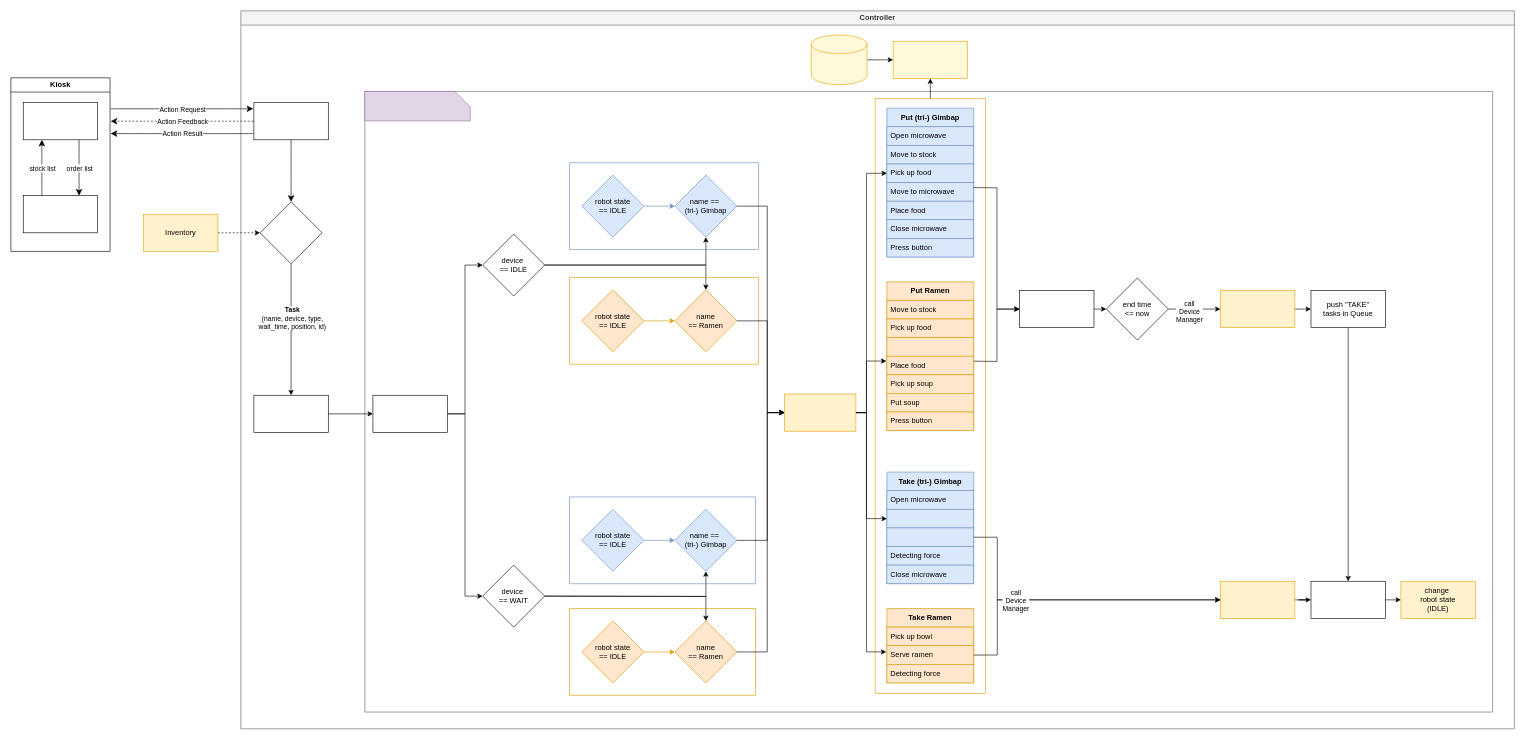
Image size: 1525x754. Some labels were removed from this diagram. Each missing label, with the centre of its shape:
change device state ( WAIT ): (1257,309)
change device state (IDLE ): (1257,599)
change robot state ( BUSY ): (820,412)
Check Stock: (60,214)
init pose: (1347,599)
loop (quantities): (417,106)
Motion Controller: (930,59)
Move to cooker: (930,346)
Order GUI: (60,121)
Pick up gimbap: (930,518)
push "Put" tasks in Queue: (290,413)
Serve gimbap: (930,537)
set cooking timer: (1056,309)
stock > quantities: (290,232)
Task Manager: (290,121)
Trajectory Pose Data: (839,59)
traverse Task Queue: (409,413)
